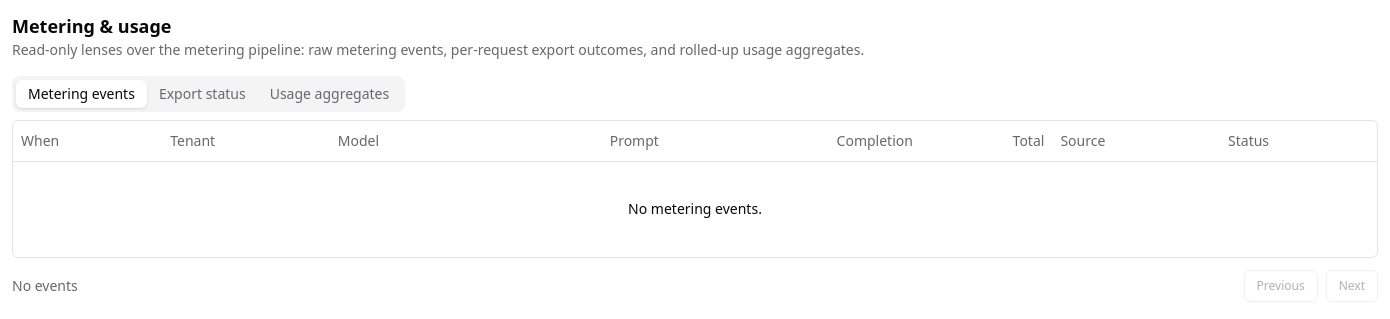
Test: renders the usage aggregates tab
The image size is (1390, 319).
Click the tab "Usage aggregates". click: click(329, 94)
box: [258,80,401,108]
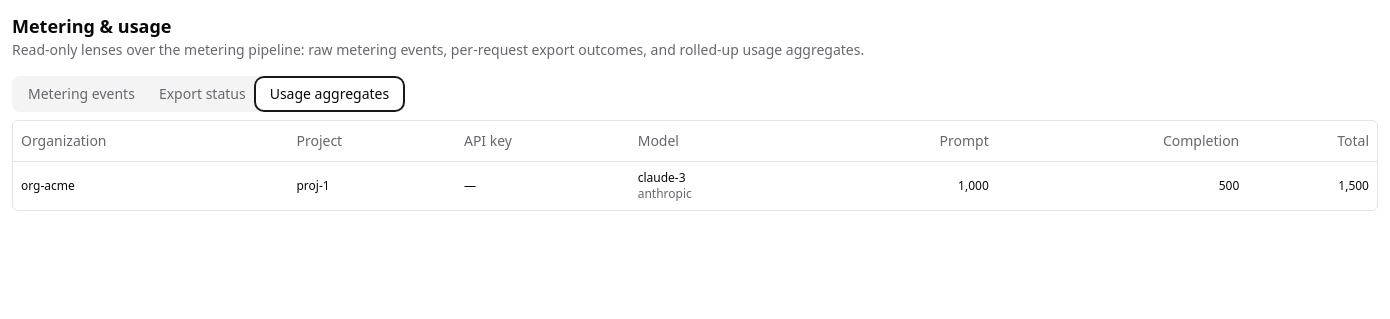
Now the text "claude-3" is shown, box [638,168,686,186]
Now the text "anthropic" is shown, box [638,184,692,202]
Now the text "1,500" is shown, box [1247,161,1377,210]
